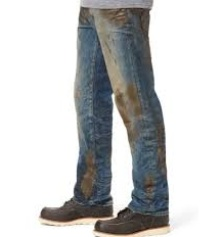earth: (117, 86, 140, 115), (157, 126, 167, 171), (105, 8, 126, 26), (84, 152, 92, 193), (144, 177, 153, 194), (83, 7, 89, 20)
